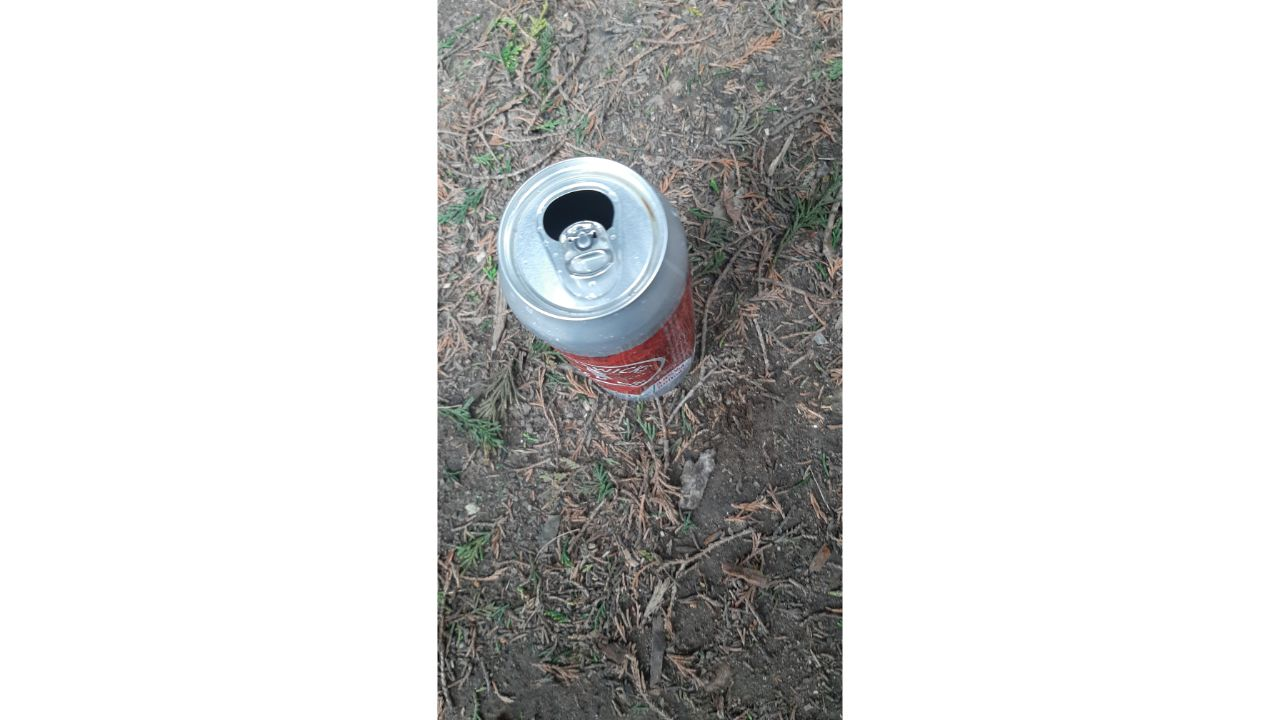Can: (495, 153, 700, 405)
